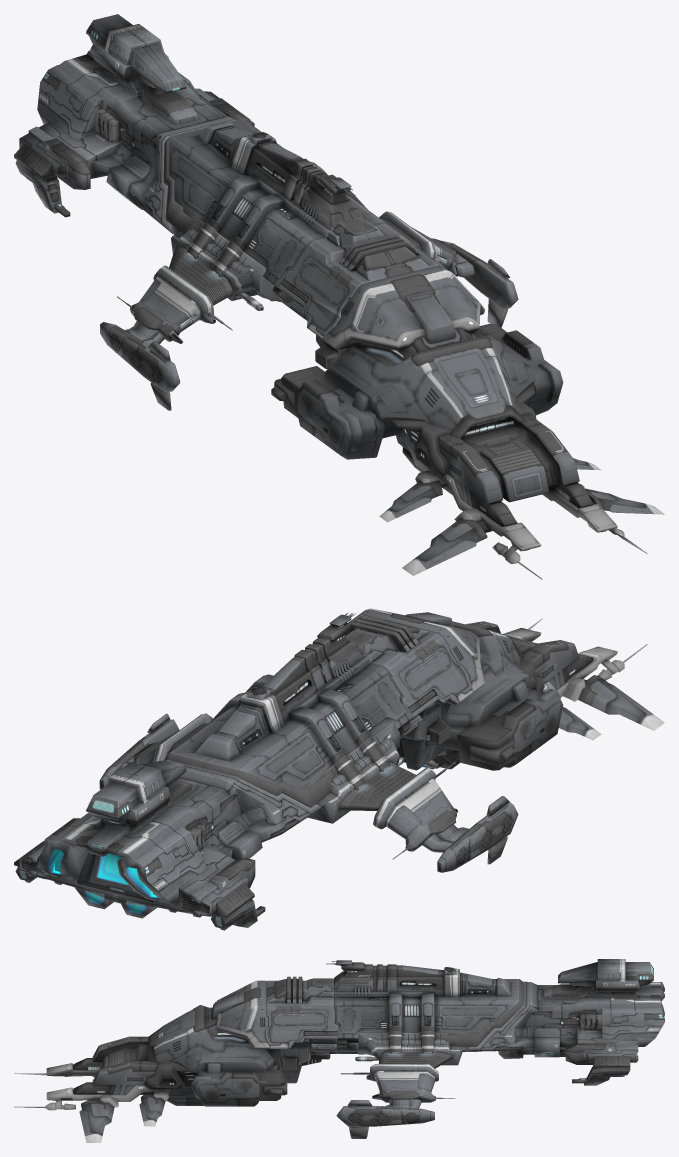
Rendered from 29984_Tengu3312_lite.glb.
3 views of the same model, one above another, from view 1: azimuth 30°, elevation 25°; view 2: azimuth 150°, elevation 25°; view 3: azimuth 270°, elevation 25° (orthographic). The views are drawn at different scales.
Visible parts, largest first — view 1: csc1_t3_s1v3, csc1_t3_s4v2, csc1_t3_s2v3, csc1_t3_s3v1; view 2: csc1_t3_s4v2, csc1_t3_s1v3, csc1_t3_s2v3, csc1_t3_s3v1; view 3: csc1_t3_s1v3, csc1_t3_s4v2, csc1_t3_s2v3, csc1_t3_s3v1.
Boxes of the visible parts, x1,y1,x2,y2 form: csc1_t3_s1v3: [271, 217, 664, 579]; csc1_t3_s4v2: [14, 14, 254, 233]; csc1_t3_s2v3: [168, 119, 387, 310]; csc1_t3_s3v1: [100, 119, 518, 410]; csc1_t3_s4v2: [14, 760, 320, 930]; csc1_t3_s1v3: [345, 608, 664, 770]; csc1_t3_s2v3: [168, 613, 412, 789]; csc1_t3_s3v1: [99, 713, 518, 872]; csc1_t3_s1v3: [14, 976, 337, 1142]; csc1_t3_s4v2: [467, 959, 664, 1085]; csc1_t3_s2v3: [326, 960, 519, 1053]; csc1_t3_s3v1: [336, 979, 522, 1138].
Bounding box in the file's own units: 1.88 × 1.11 × 4.65.
6 materials, 6 textured.
